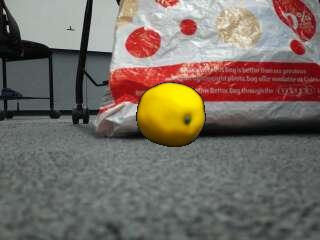lemon: (139, 84, 206, 147)
